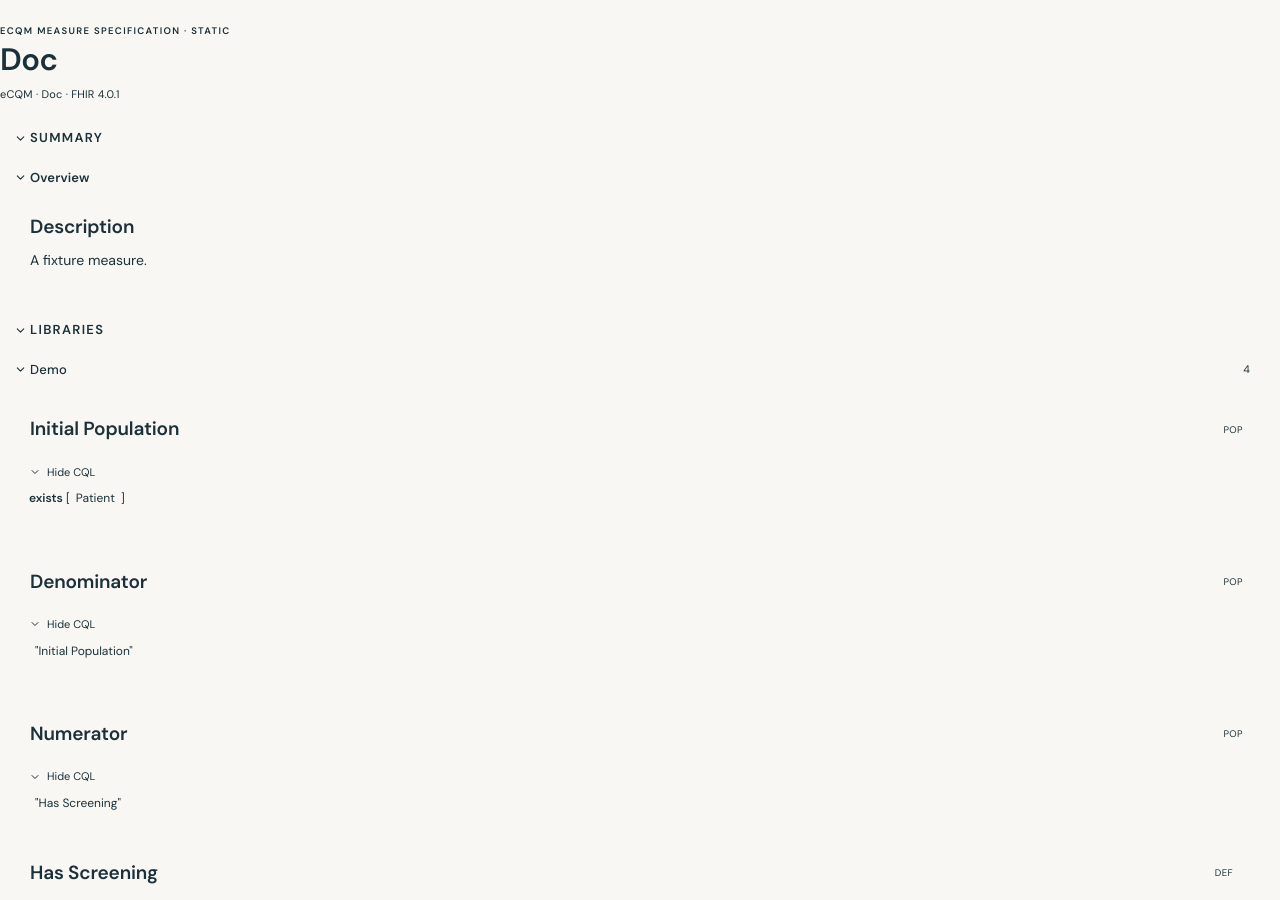
Test: MeasureNarrative — selecting a read (SPEC-NAV-COMPOSITION) › selects the read a CQL token names, not the section it lives in
Click the 1st button with class "mw-cqlblock-toggle" at (71, 472), box [29,456,1251,488]
(page scrolled)
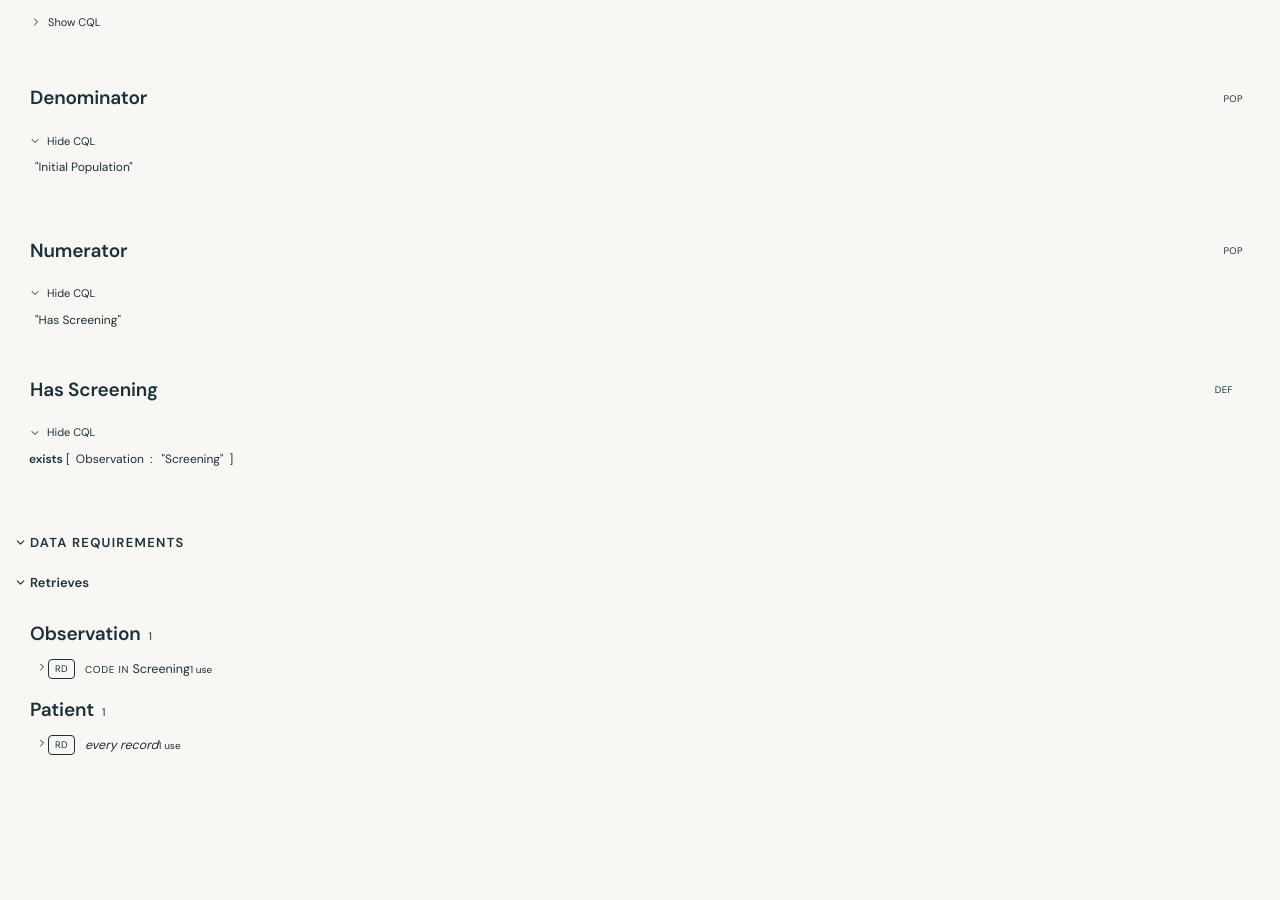
Click the button with class "cql-link" showing "Observation" at (110, 460), box [70,449,150,470]
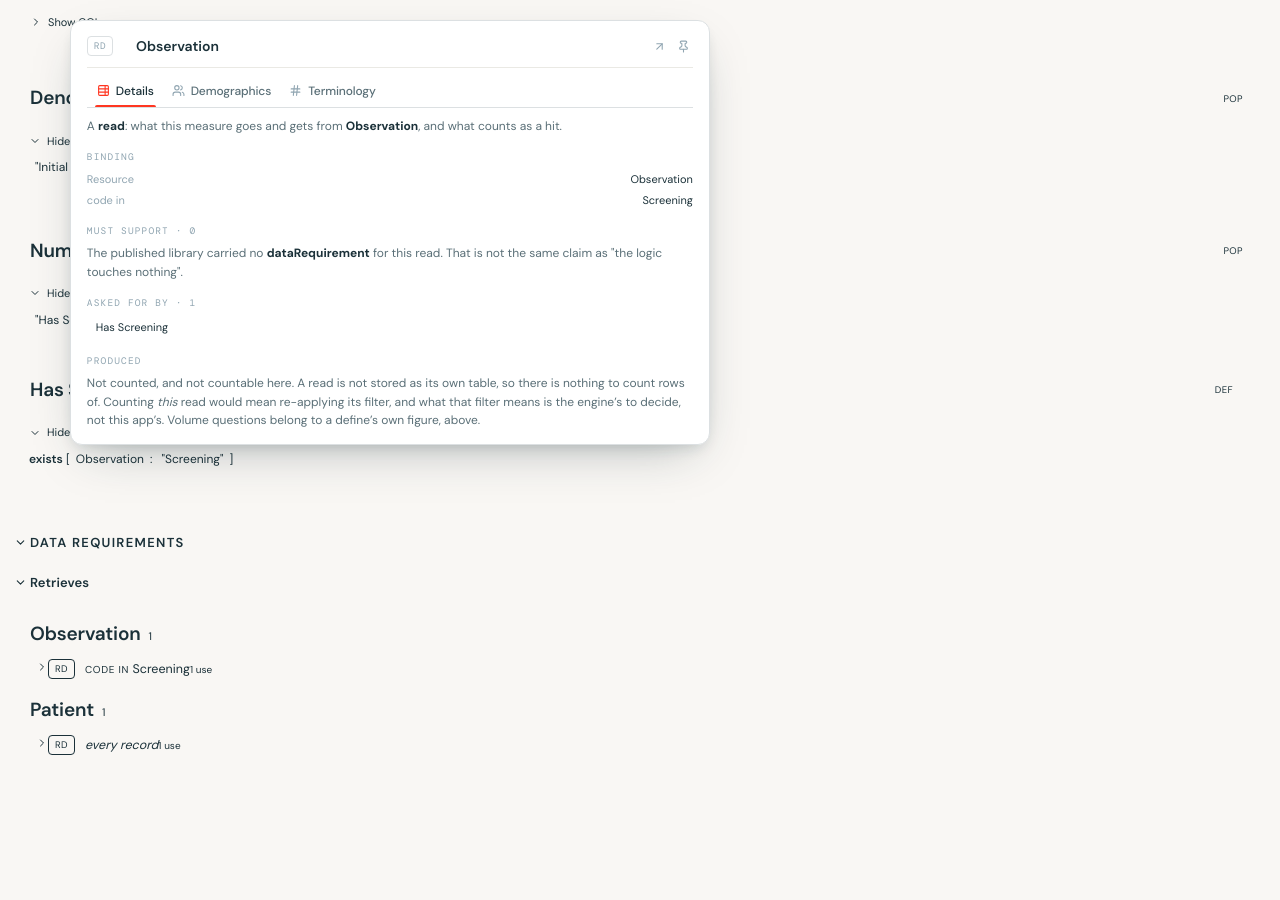
Click the button named "Open this section" at (658, 46), box [647,35,669,57]
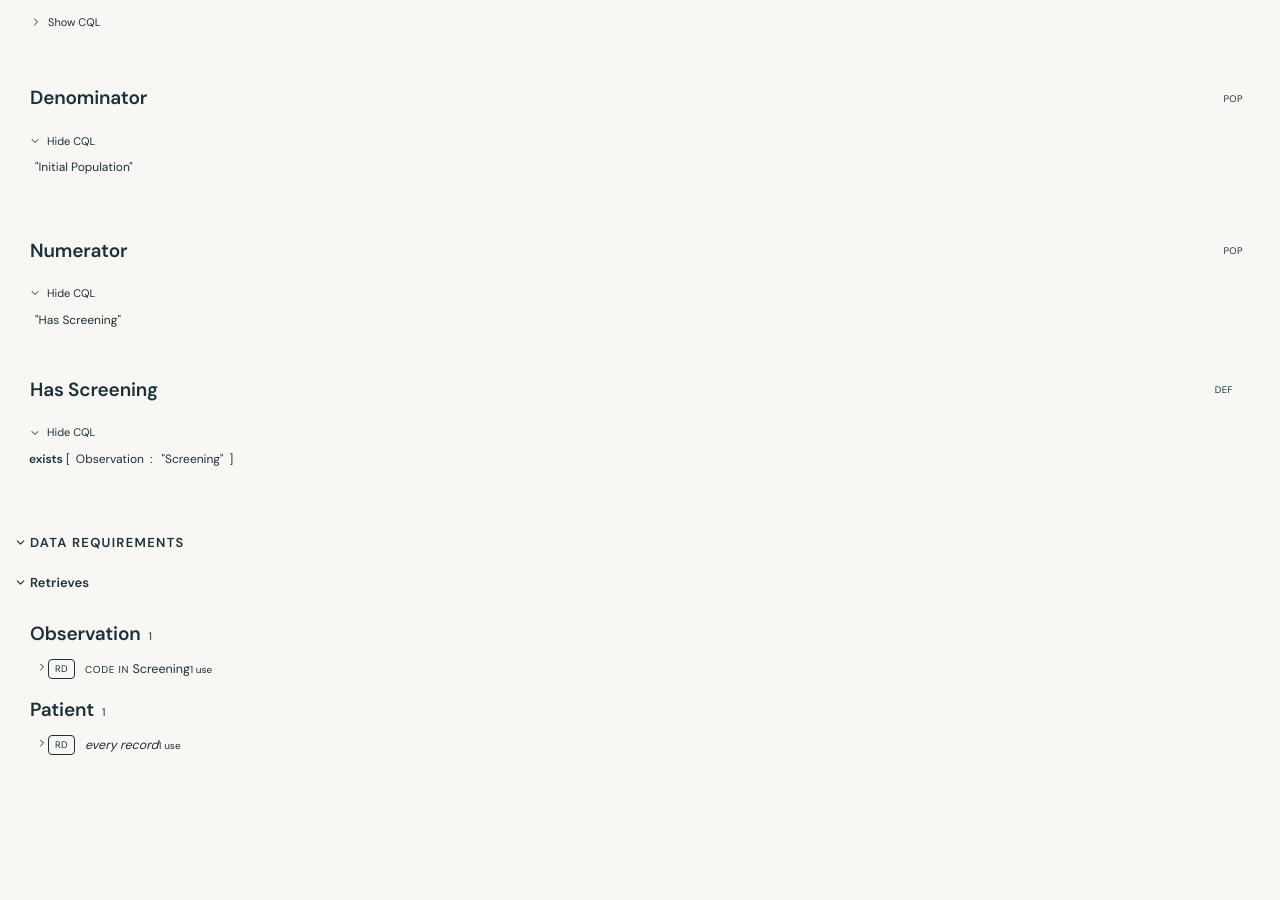
Expected: the dialog with class "mw-reflens" is gone
